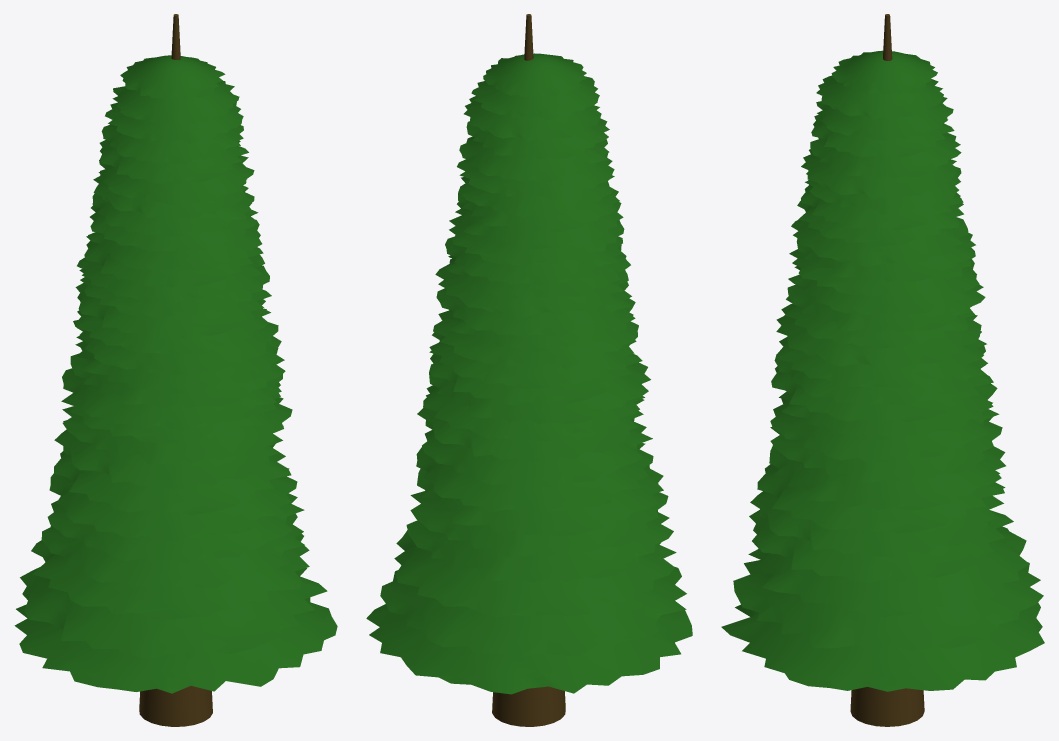
Rendered from Sapin3.fbx.
3 renders of one model, left to right at view 1: azimuth 30°, elevation 25°; view 2: azimuth 150°, elevation 25°; view 3: azimuth 270°, elevation 25°, orthographic.
Parts seen in each view (by area): view 1: Sapin_03; view 2: Sapin_03; view 3: Sapin_03.
Boxes of the visible parts, x1=… form: Sapin_03: x1=14, y1=14, x2=337, y2=726; Sapin_03: x1=366, y1=14, x2=692, y2=726; Sapin_03: x1=721, y1=14, x2=1044, y2=726.
Size of the model in its own units: 6.42 by 15.37 by 6.48.
